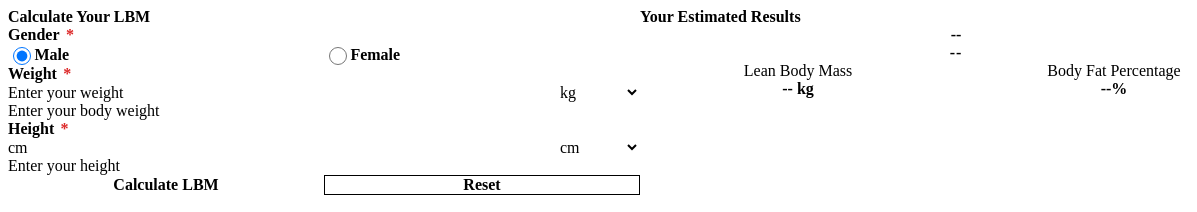
Test case: LeanBodyMassCalculator › computes the source Boer formula for men end-to-end
Step 1. Type "80" into the number field labelled "weight" → coordinates (282, 93), box [8,83,556,102]
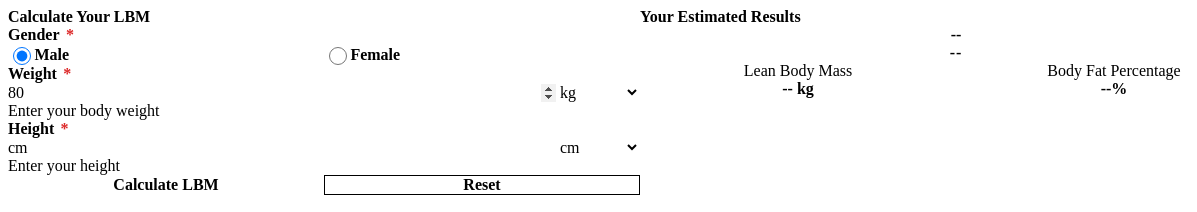
Step 2. Type "180" into the number field named "Height" → coordinates (282, 148), box [8,138,556,157]
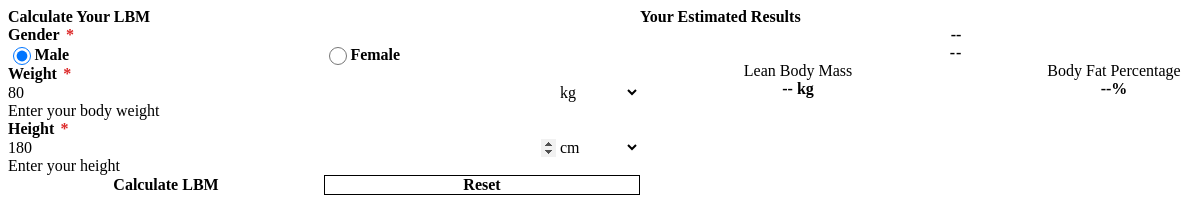
Step 3. Click the button "Calculate LBM" → coordinates (166, 185), box [8,175,324,195]
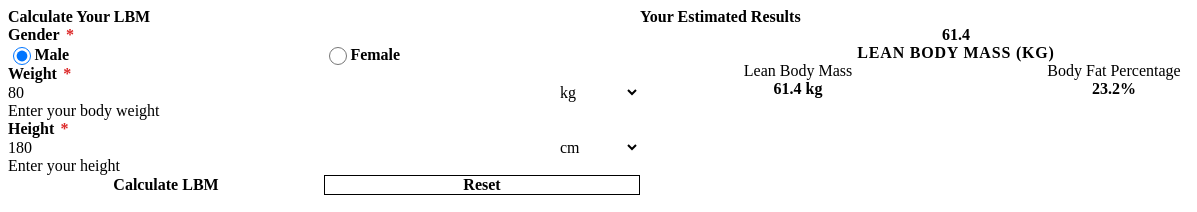
Check: the element "Your Estimated Results" shows "61.4 kg", box [774,80,822,97]
Check: the element "Your Estimated Results" shows "Lean Body Mass (kg)", box [857,44,1055,61]
Check: the element "Your Estimated Results" shows "23.2%", box [1092,80,1136,97]
